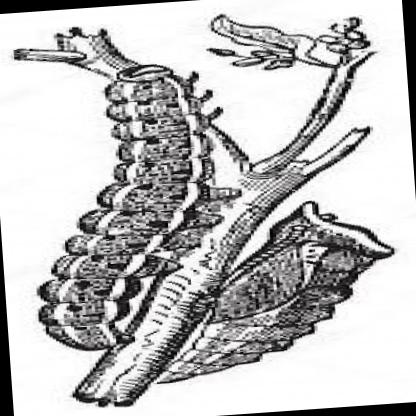pieris: (28, 62, 224, 353)
